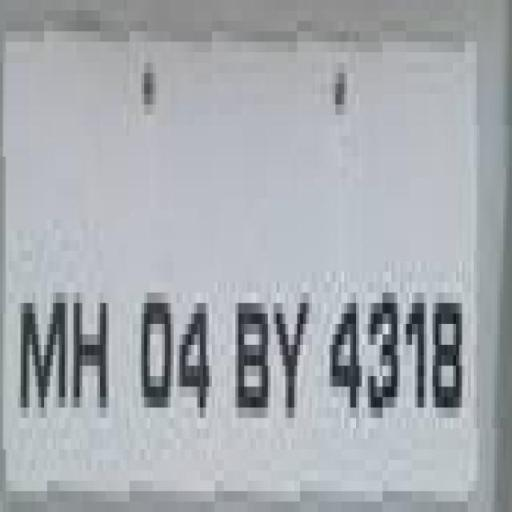number plate: (0, 72, 498, 510)
